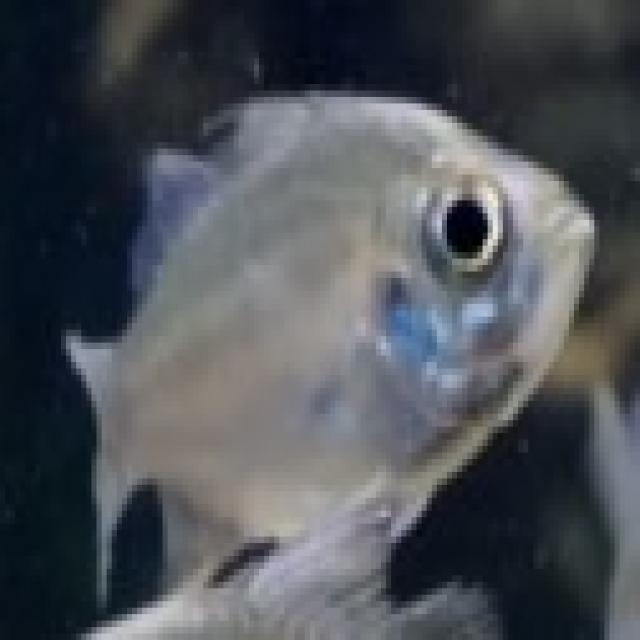Glass-Perchlet: (41, 44, 611, 597)
